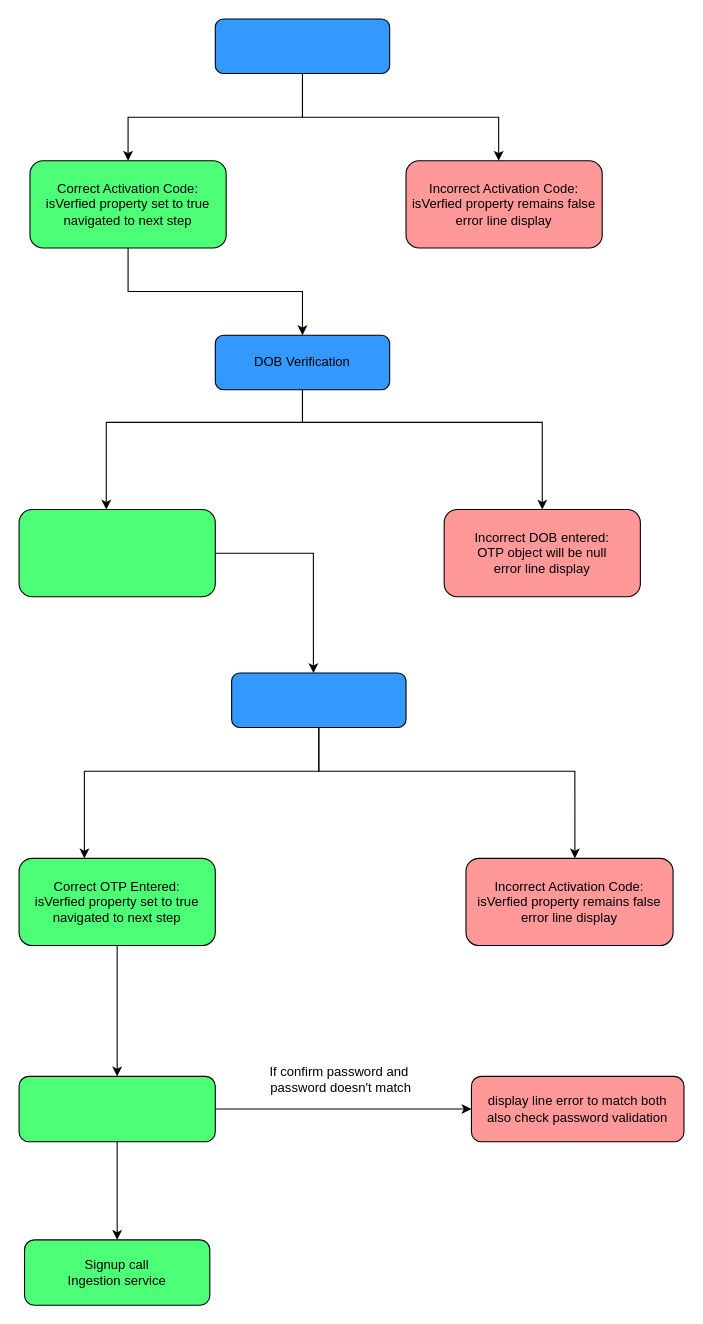
The diagram is 703 pixels wide and 1324 high, and some of its shapes have lost their labels. The centre of each missing label's shape, as x and y in pixels:
"Activation Code" belongs at (x=302, y=46).
"Correct DOB Entered: verify-dob endpoint hit OTP will send to user on mail" belongs at (x=116, y=552).
"OTP Verification" belongs at (x=318, y=700).
"set up password" belongs at (x=116, y=1108).
